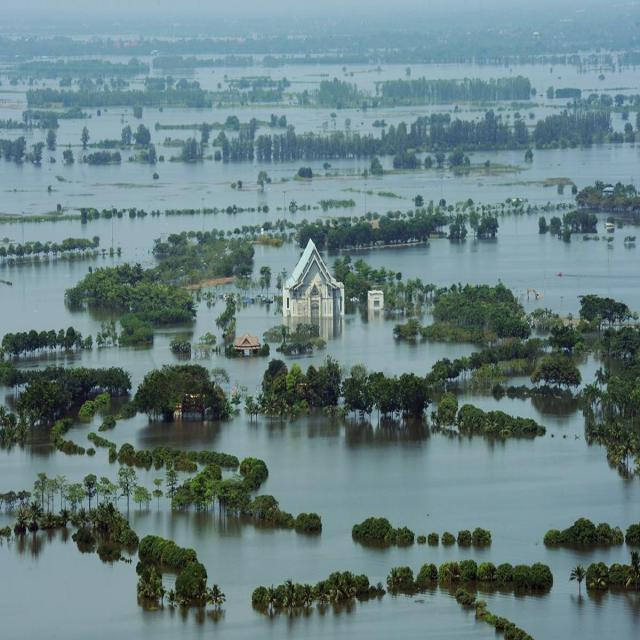flood: (0, 55, 640, 338), (0, 391, 640, 640), (17, 240, 481, 402), (349, 214, 640, 318), (0, 443, 120, 492), (3, 56, 155, 68), (576, 355, 604, 388), (0, 78, 65, 92), (3, 130, 42, 150), (1, 94, 26, 123), (501, 376, 531, 388)
house: (282, 238, 346, 338), (232, 332, 262, 360), (367, 288, 385, 308)
